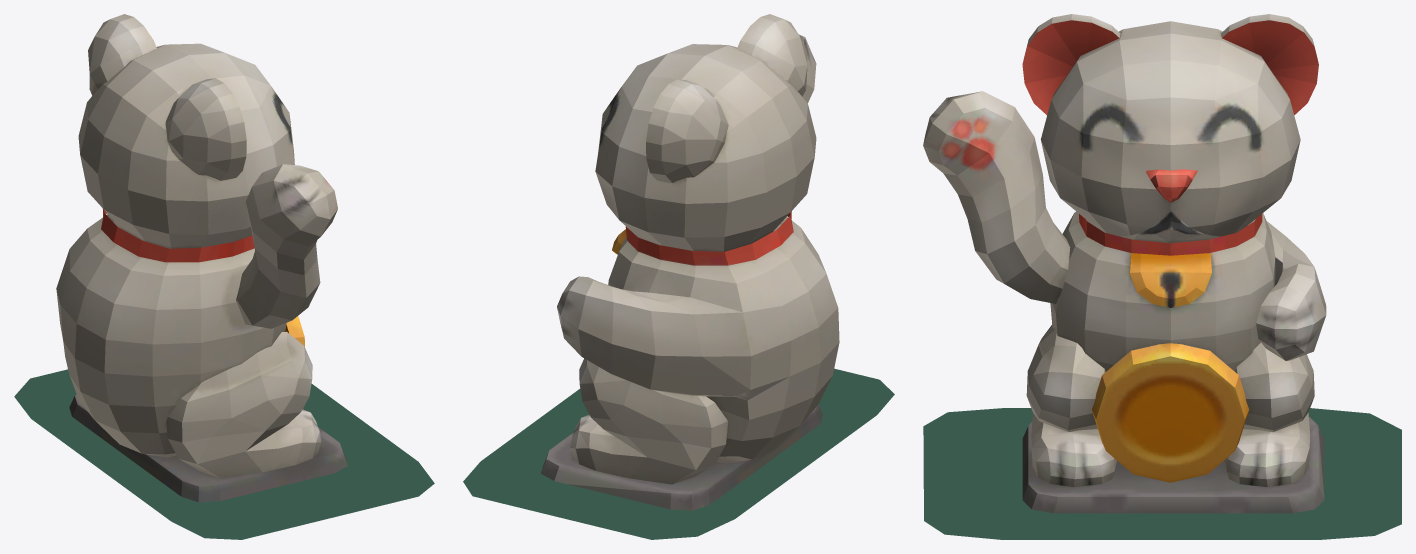
Rendered from QuestWavingCatModel.fbx.
The picture shows the model from 3 angles, left to right: view 1: azimuth 30°, elevation 25°; view 2: azimuth 150°, elevation 25°; view 3: azimuth 270°, elevation 25°; orthographic projection. The views are drawn at different scales.
Visible parts, largest first — view 1: NPCHouseDecorationPropCat, ShadowSquare; view 2: NPCHouseDecorationPropCat, ShadowSquare; view 3: NPCHouseDecorationPropCat, ShadowSquare.
Boxes of the visible parts, x1,y1,x2,y2 form: NPCHouseDecorationPropCat: (56, 14, 347, 502); ShadowSquare: (14, 369, 434, 539); NPCHouseDecorationPropCat: (541, 14, 839, 510); ShadowSquare: (463, 368, 894, 539); NPCHouseDecorationPropCat: (923, 14, 1326, 513); ShadowSquare: (923, 408, 1401, 539).
Size of the model in its own units: 0.5474 by 0.7771 by 0.7758.
